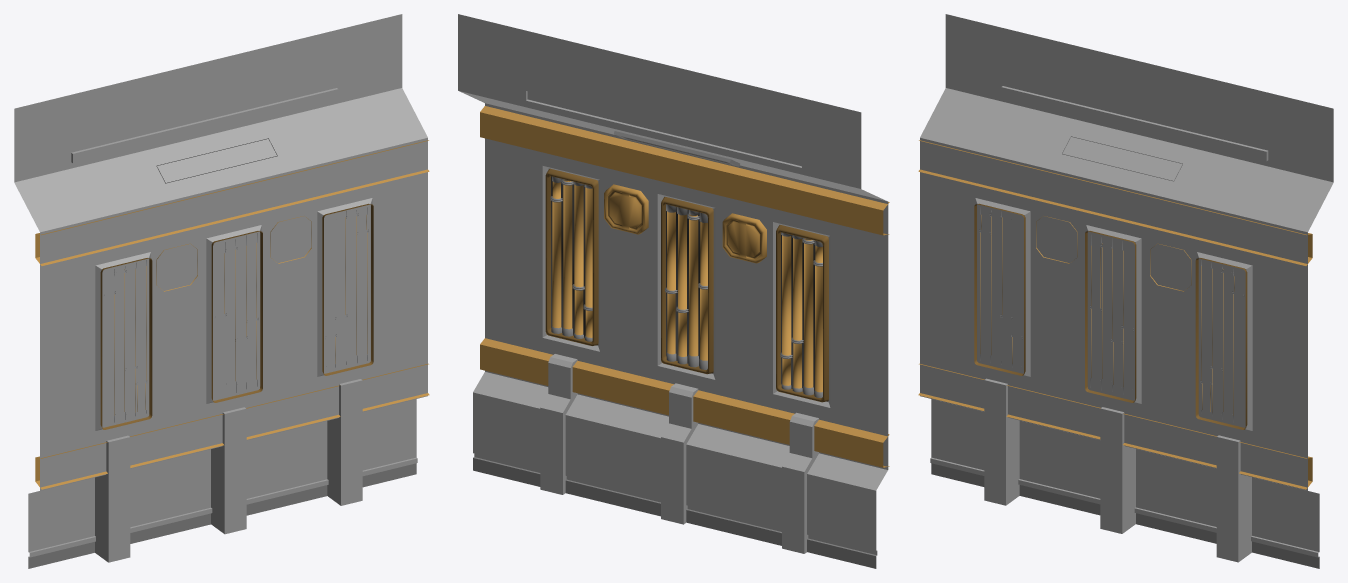
Rendered from wall_2_lev3.glb.
The picture shows the model from 3 angles, left to right: view 1: azimuth 30°, elevation 25°; view 2: azimuth 150°, elevation 25°; view 3: azimuth 330°, elevation 25°; orthographic projection. The views are drawn at different scales.
Parts seen in each view (by area): view 1: wall_2_lev3; view 2: wall_2_lev3; view 3: wall_2_lev3.
Boxes of the visible parts, x1,y1,x2,y2 form: wall_2_lev3: (14,14,429,568); wall_2_lev3: (458,14,889,568); wall_2_lev3: (918,14,1333,568).
Bounding box in the file's own units: 4 × 4.43 × 0.5334.
